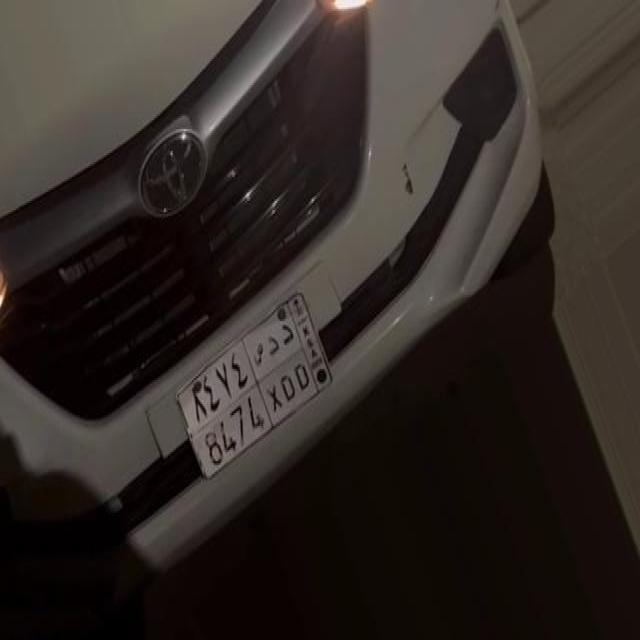Car-plate: (171, 268, 346, 496)
